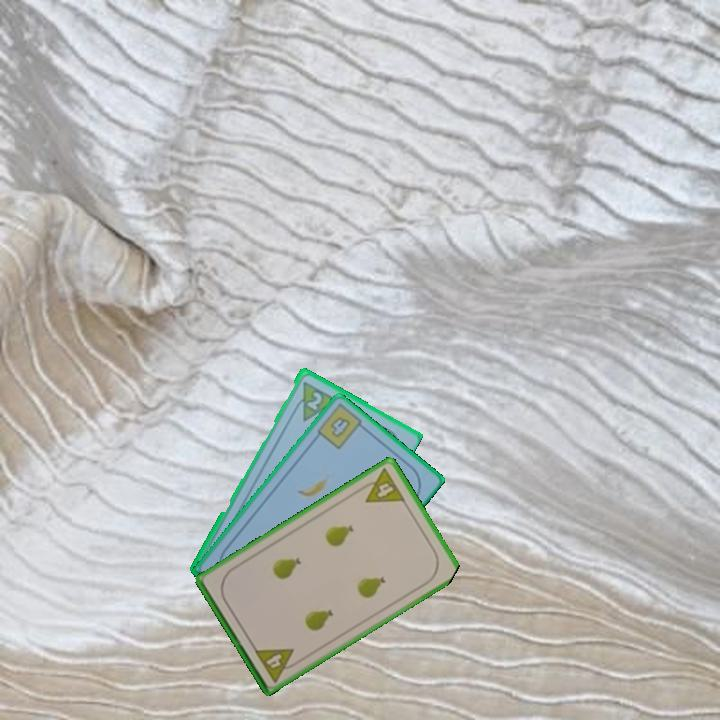2p: (303, 388, 325, 413)
4b: (313, 402, 369, 452)
4p: (355, 465, 408, 506), (251, 644, 302, 685)
